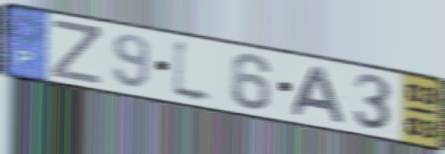3: (351, 73, 397, 132)
6: (229, 52, 273, 111)
9: (110, 32, 153, 90)
A: (290, 65, 349, 126)
L: (169, 35, 219, 110)
Z: (50, 17, 103, 87)
